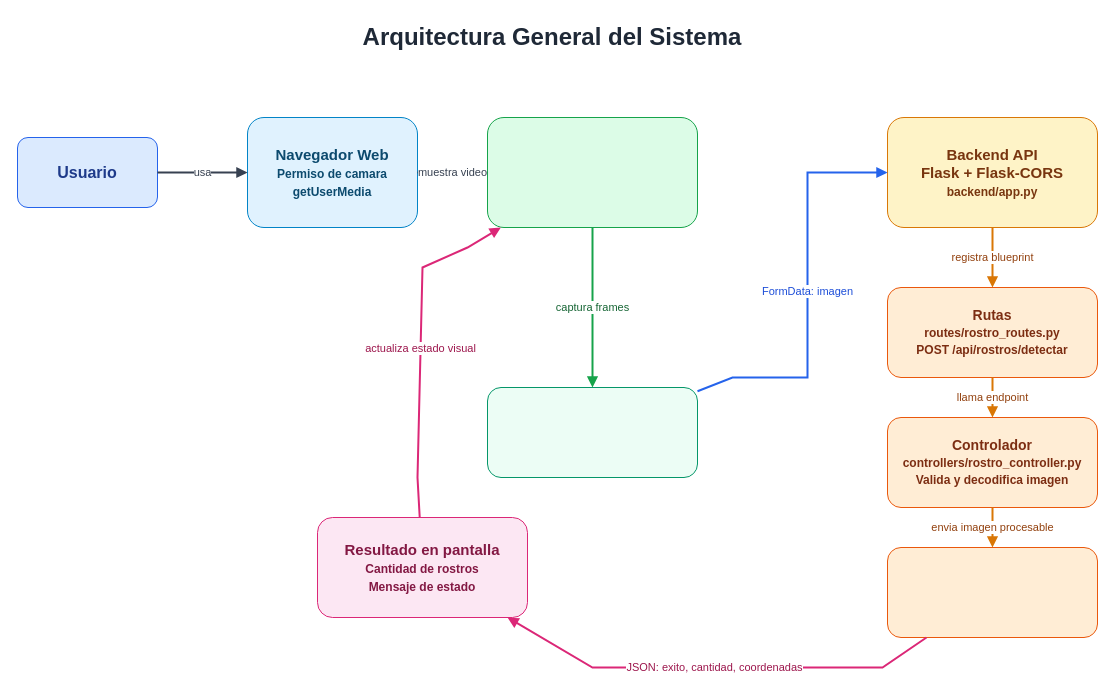
This 1115x693 diagram has some shape labels left out. The centre of each missing label's shape, as x and y in pixels:
Captura de frame Canvas oculto Imagen JPEG cada 0.5s: the point at 592,432
Frontend React + TypeScript + Vite frontend/src/App.tsx: the point at 592,172
Servicio OpenCV services/rostros_services.py Haar Cascade: the point at 992,592
